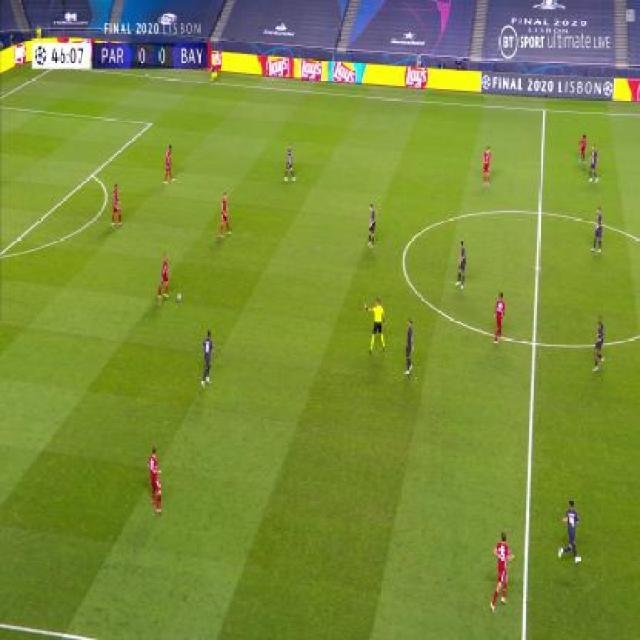ball: (176, 291, 181, 302)
player: (490, 533, 515, 610), (558, 499, 581, 565), (364, 295, 387, 354), (147, 446, 164, 515), (591, 315, 607, 374), (200, 329, 214, 388), (155, 252, 171, 301), (402, 317, 415, 376), (492, 292, 506, 346), (216, 193, 232, 239), (455, 239, 468, 290), (590, 208, 604, 254), (109, 184, 123, 227), (283, 142, 297, 181), (162, 145, 175, 184), (366, 203, 377, 249), (589, 142, 600, 185), (481, 145, 492, 188), (209, 48, 220, 81), (578, 134, 587, 165)
